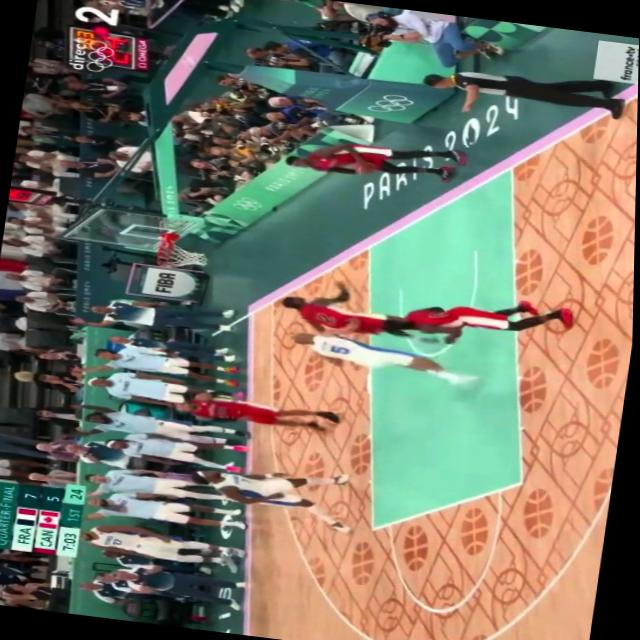ball_handler: (273, 123, 478, 195)
